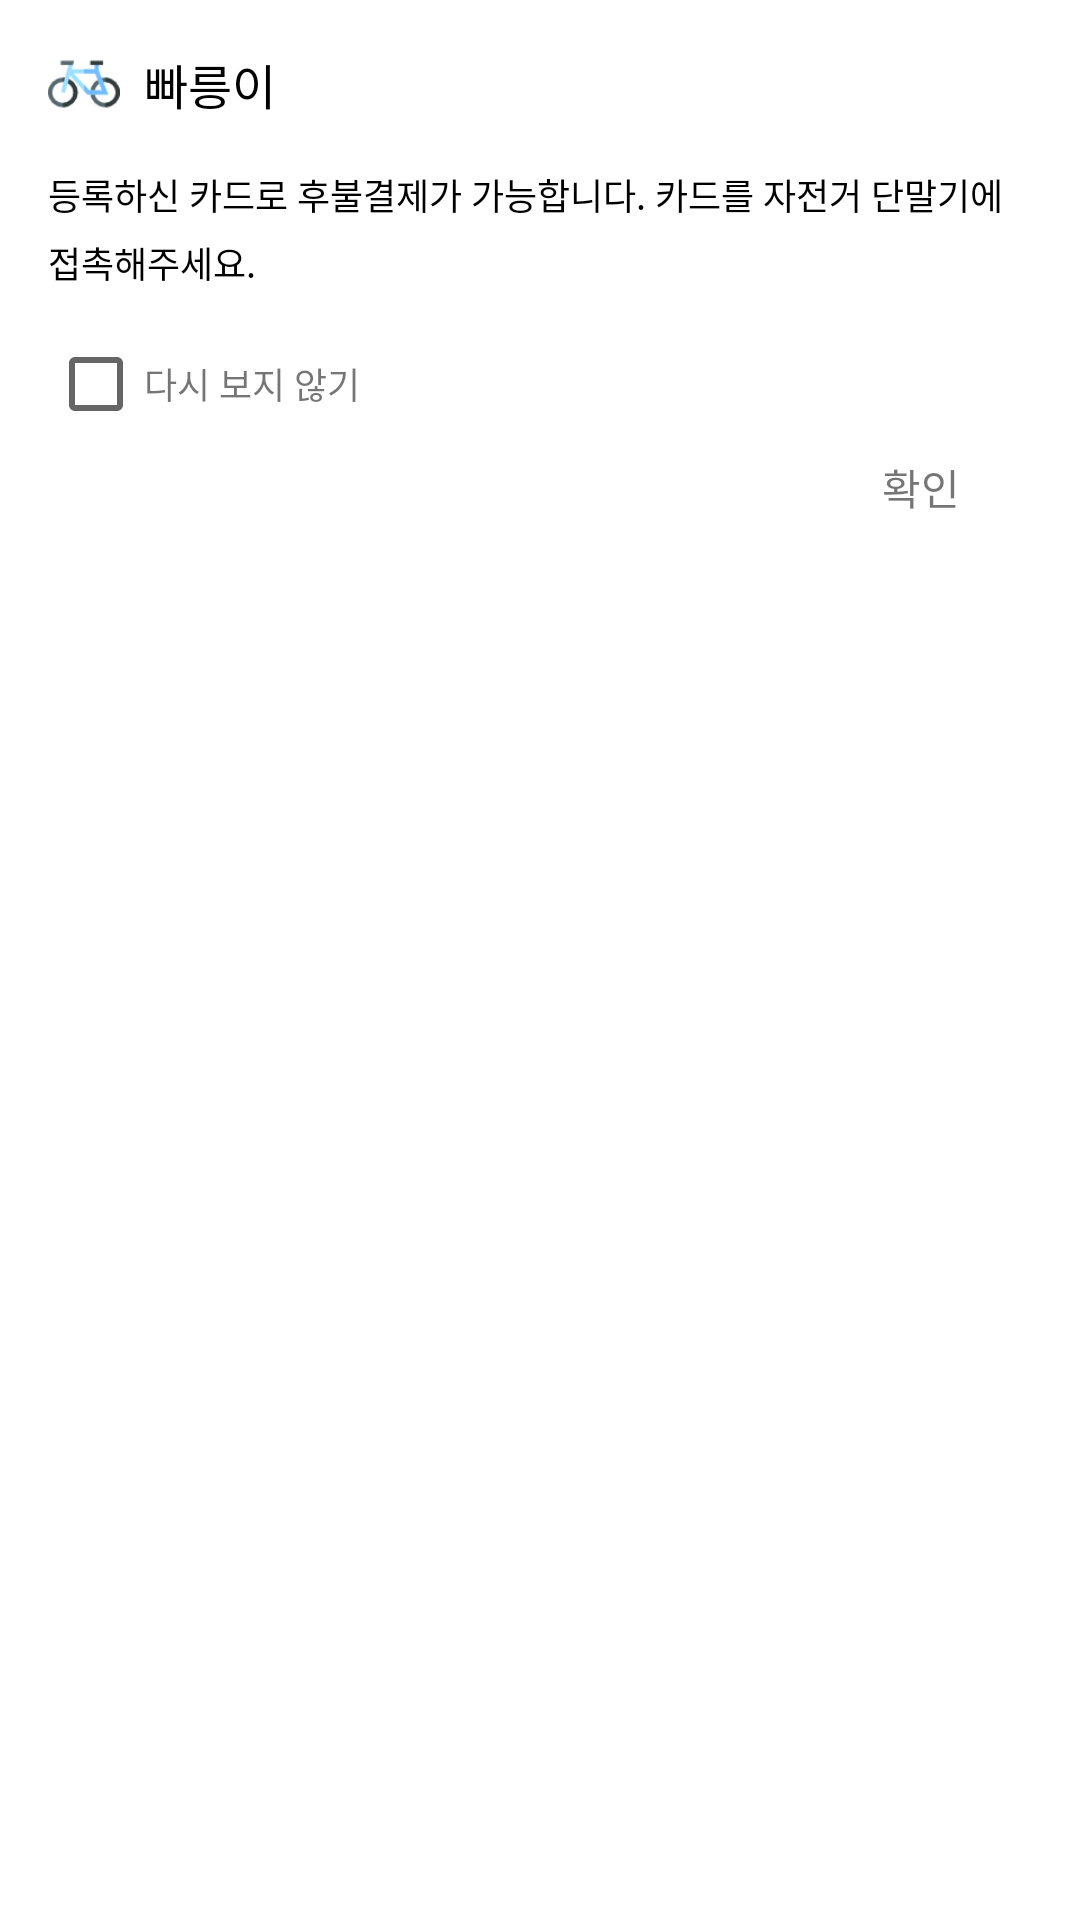

Where to tap for icons on this 1080*1920 app screen, as [x,y]:
cycling: [84,84]
